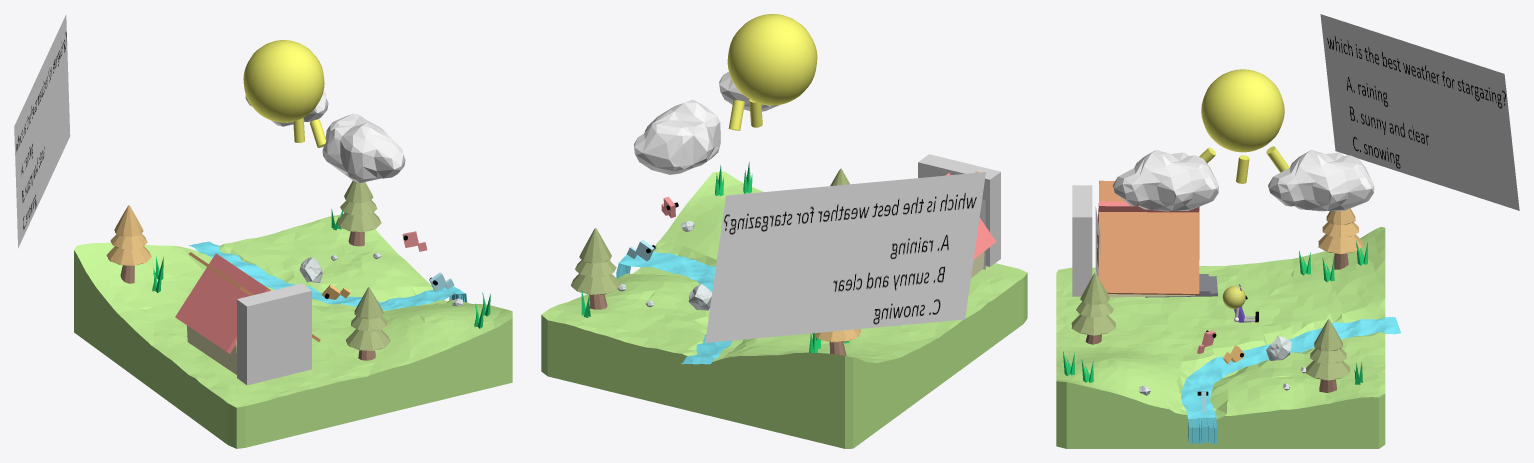
File: sunnyQ2.glb
3 views of the same model, side by side, from view 1: azimuth 30°, elevation 25°; view 2: azimuth 150°, elevation 25°; view 3: azimuth 270°, elevation 25° (orthographic). The views are drawn at different scales.
Visible parts, largest first — view 1: terrain, pPlane2, Cube, pSphere1, house:pCube6, pPlatonic1, water, house:pCube4, pCylinder1, trees:pCylinder8, trees:pCylinder1, pCylinder4 (+1 smaller); view 2: terrain, pPlane2, pSphere1, clouds:pPlatonic1, Cube, water, trees:pCylinder1, trees:pCylinder4, pPlatonic1, trees:pCylinder3, stone:pPlatonic2, house:pCube6; view 3: terrain, pPlane2, house:pCube5, pSphere1, clouds:pPlatonic1, pPlatonic1, water, Cube, pCylinder1, trees:pCylinder8, trees:pCylinder1, trees:pCylinder4 (+4 smaller).
Boxes of the visible parts, box(x1,y1,x2,y2) form: terrain: box(74, 214, 512, 448); pPlane2: box(14, 14, 70, 248); Cube: box(237, 283, 311, 385); pSphere1: box(243, 40, 324, 122); house:pCube6: box(175, 253, 270, 353); pPlatonic1: box(322, 113, 405, 182); water: box(188, 241, 467, 310); house:pCube4: box(187, 325, 236, 374); pCylinder1: box(346, 329, 390, 350); trees:pCylinder8: box(106, 246, 151, 265); trees:pCylinder1: box(336, 212, 381, 231); pCylinder4: box(354, 287, 383, 319); terrain: box(541, 171, 1027, 448); pPlane2: box(705, 172, 985, 342); pSphere1: box(727, 14, 817, 105); clouds:pPlatonic1: box(634, 99, 720, 174); Cube: box(918, 154, 1000, 266); water: box(616, 251, 732, 364); trees:pCylinder1: box(571, 273, 620, 294); trees:pCylinder4: box(579, 228, 611, 263); pPlatonic1: box(719, 71, 779, 111); trees:pCylinder3: box(575, 260, 616, 277); stone:pPlatonic2: box(688, 284, 711, 310); house:pCube6: box(945, 173, 996, 259); terrain: box(1056, 227, 1385, 448); pPlane2: box(1320, 14, 1519, 210); house:pCube5: box(1098, 180, 1199, 295); pSphere1: box(1201, 69, 1284, 152); clouds:pPlatonic1: box(1268, 150, 1374, 211); pPlatonic1: box(1112, 150, 1218, 211); water: box(1181, 317, 1400, 444); Cube: box(1072, 185, 1092, 296); pCylinder1: box(1071, 314, 1115, 335); trees:pCylinder8: box(1318, 234, 1362, 254); trees:pCylinder1: box(1306, 360, 1350, 380); trees:pCylinder4: box(1314, 319, 1342, 351).
Bounding box in the file's own units: 0.4613 × 0.3533 × 0.4738.
Materials: 27 (2 with a texture image).
